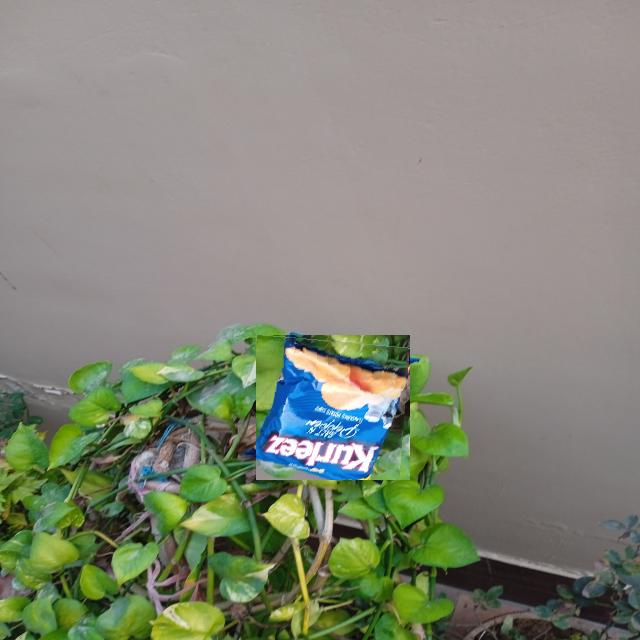Plastic: (256, 334, 411, 480)
